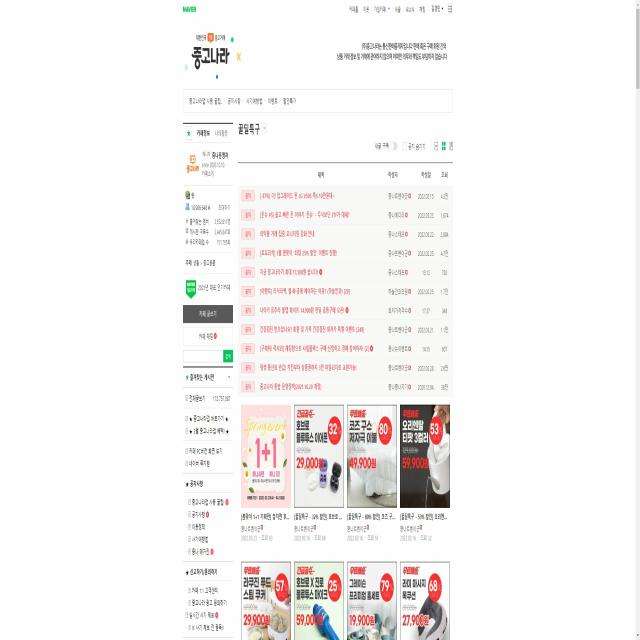menu-bar: (346, 2, 454, 17)
side-panel: (181, 118, 236, 640)
tab-bar: (183, 90, 300, 110)
